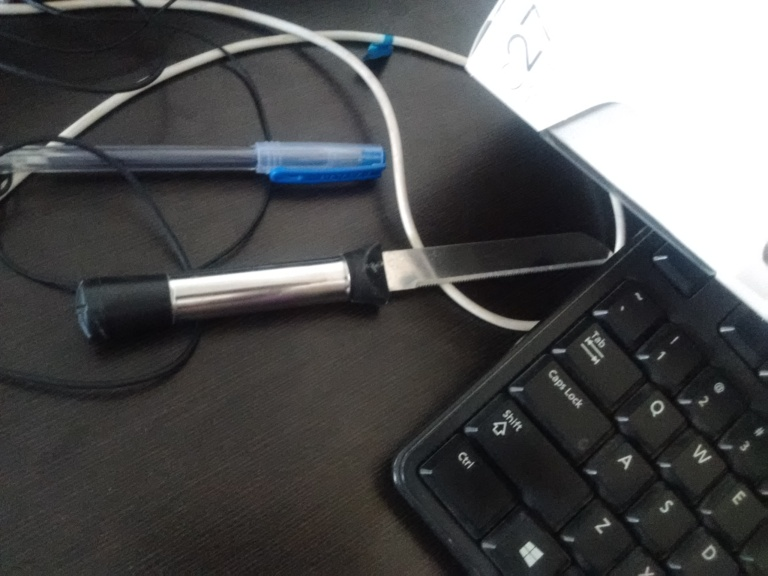knife: (73, 229, 613, 347)
